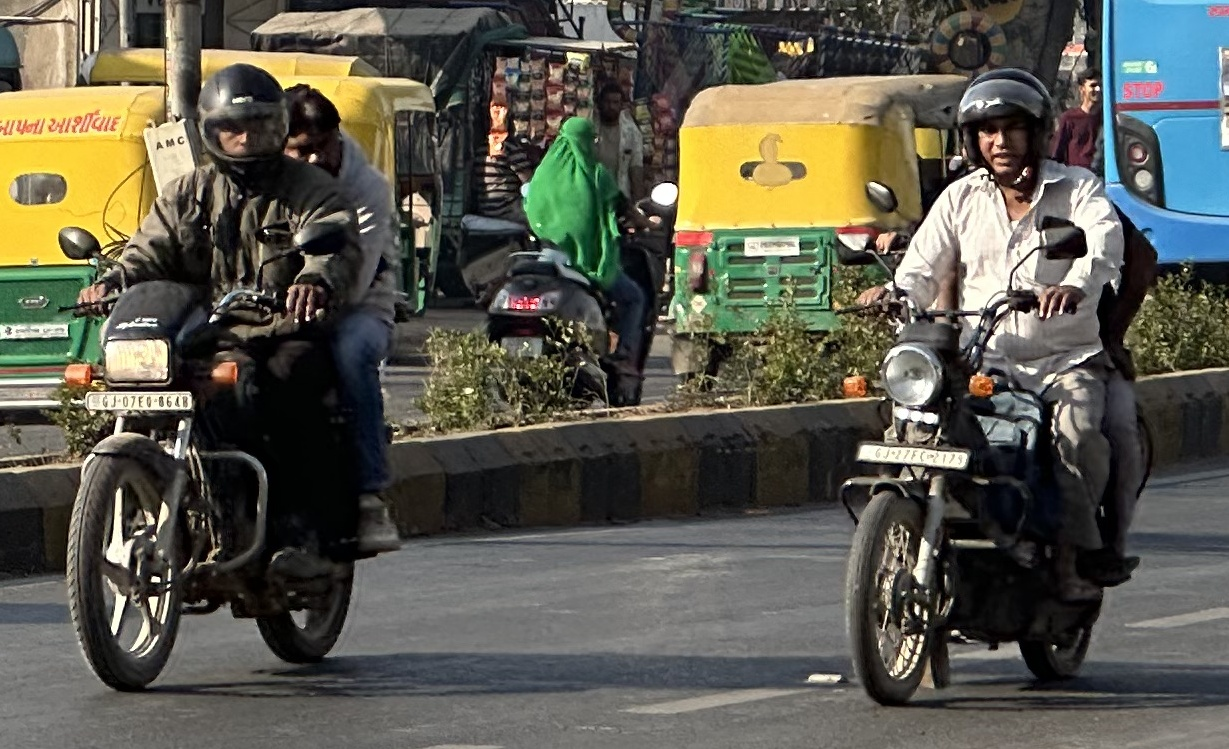BikeWithRider: (44, 56, 422, 702), (820, 63, 1172, 712), (471, 110, 684, 429)
Helmet: (186, 58, 303, 184), (944, 66, 1064, 186)
NoHelmet: (266, 77, 366, 188)
